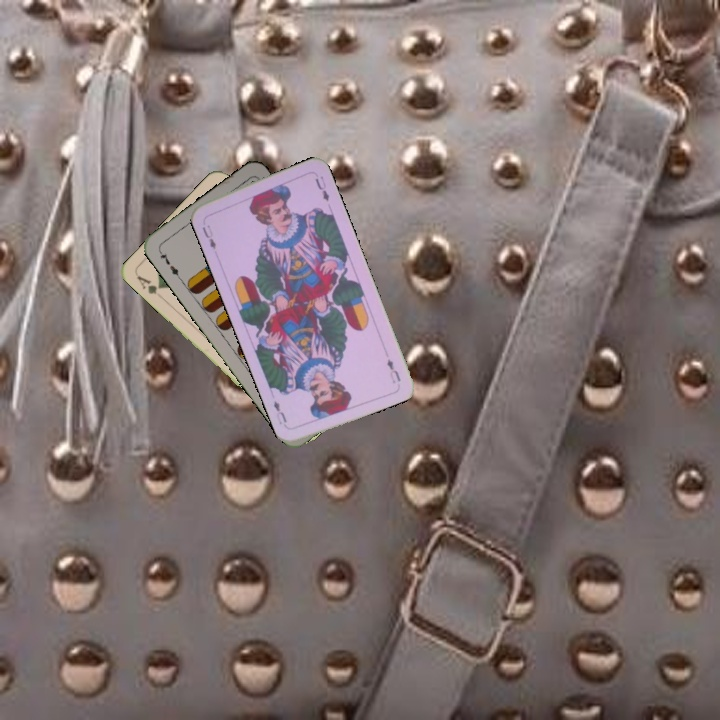E7: (155, 246, 183, 281)
EU: (198, 221, 219, 252), (383, 355, 403, 386)
GA: (133, 271, 165, 297)
